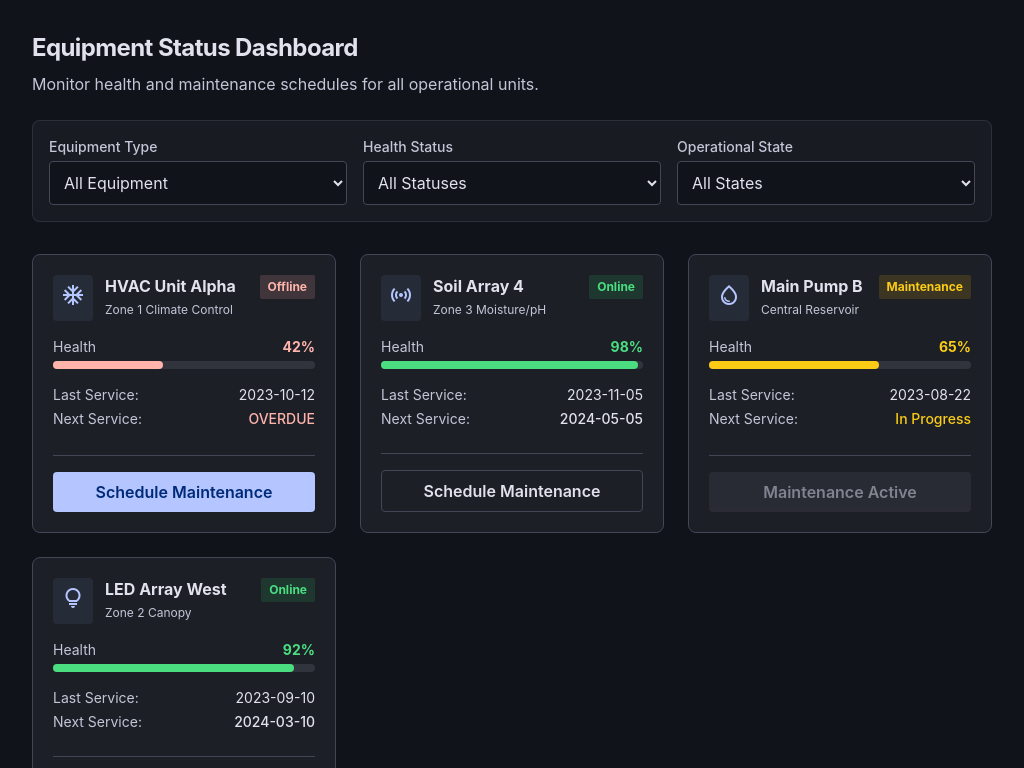
Test case: EquipmentStatus › filters by equipment type
The image size is (1024, 768).
Select "Sensors" in the dropdown labelled "Equipment Type": (198,183) [49,161,347,205]
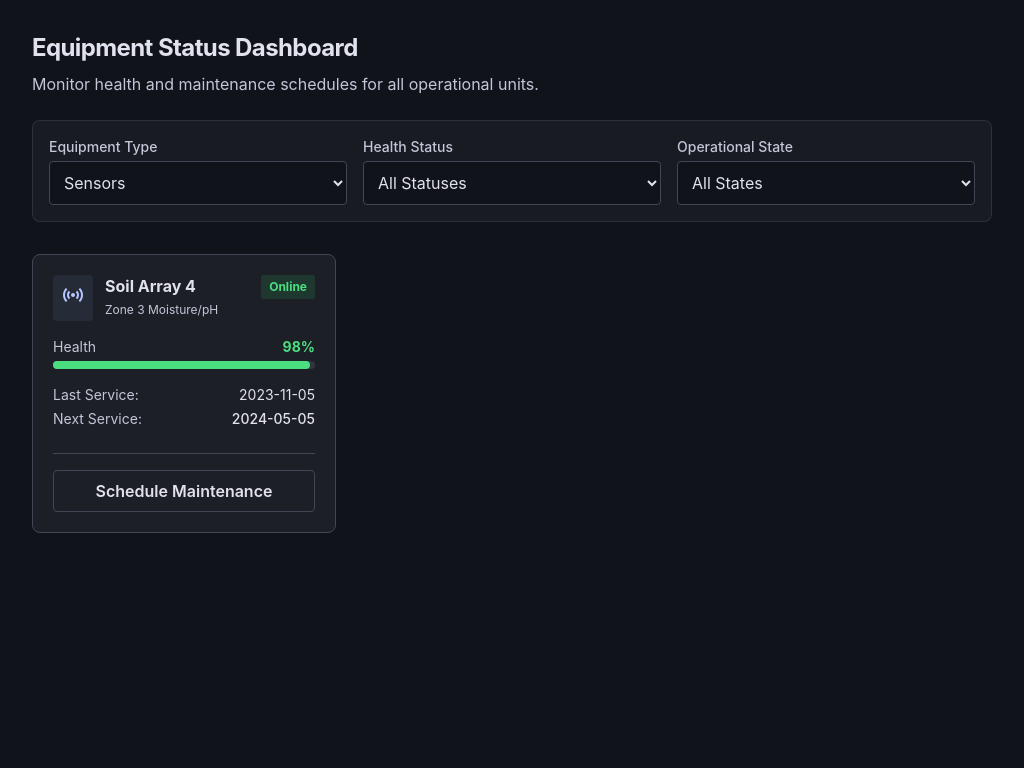
Expected: the heading "Soil Array 4" is shown, [105,276,196,296]
Result: the heading "HVAC Unit Alpha" is gone
